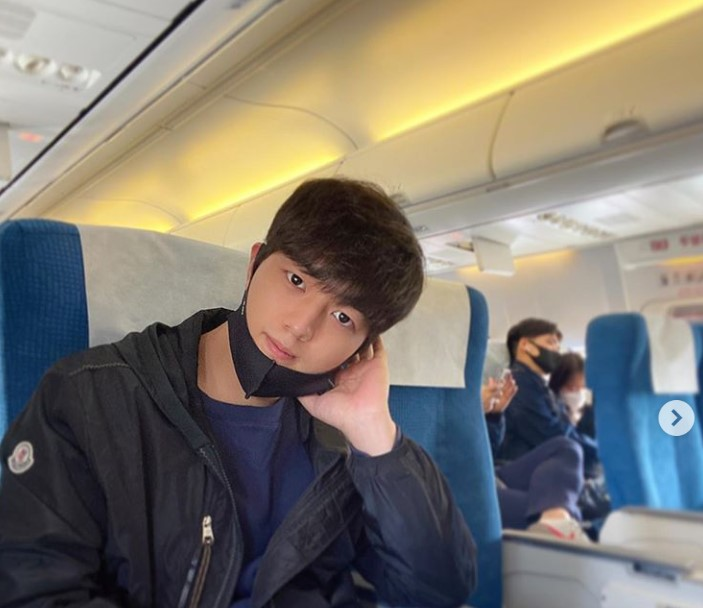face_no_mask: (224, 175, 425, 403)
face_with_mask: (504, 317, 563, 381)
